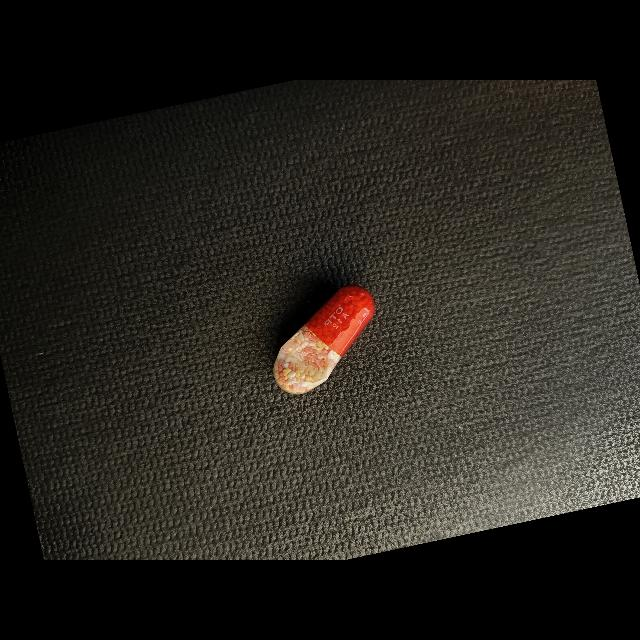Defective Capsule: (273, 286, 375, 395)
